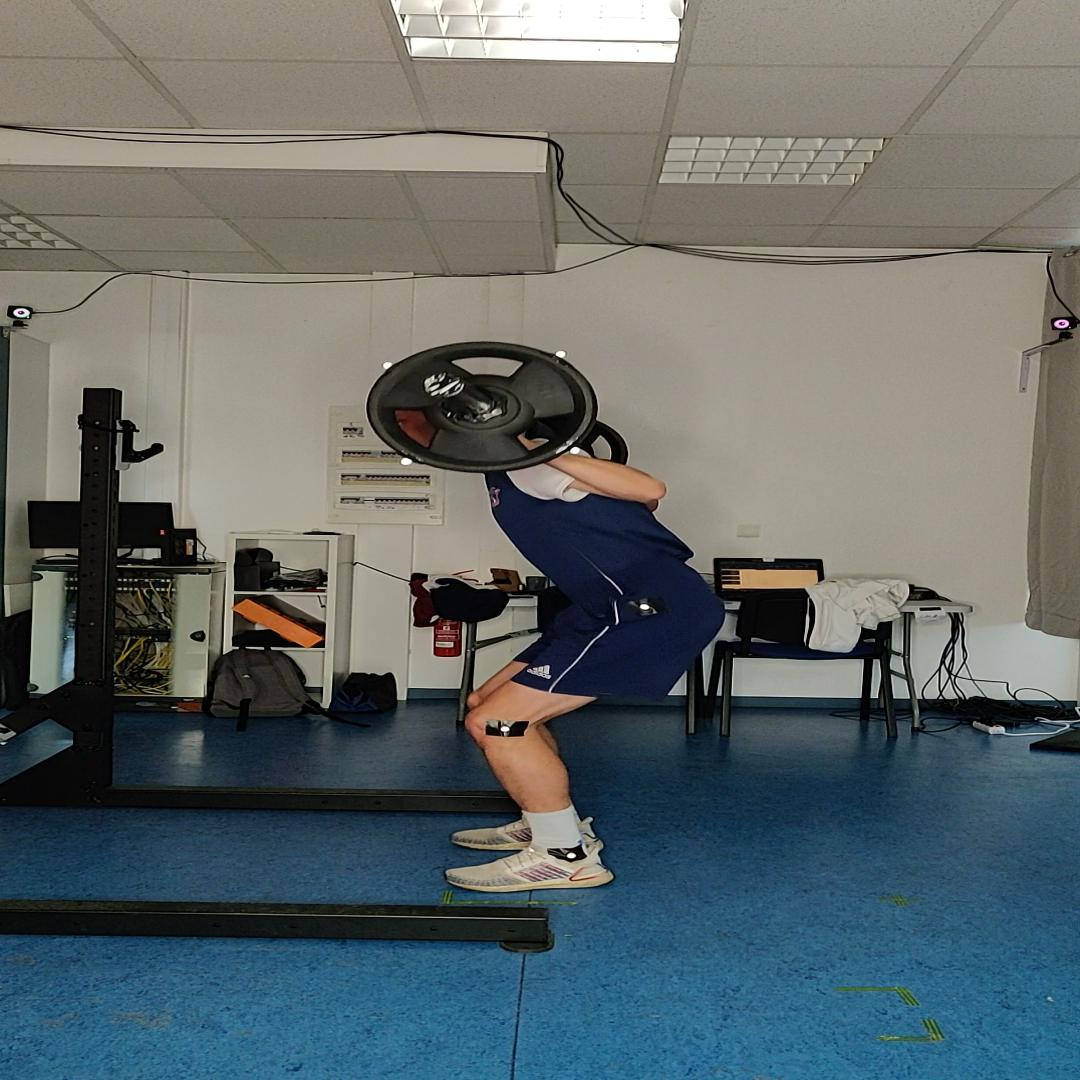Bar: (423, 372, 465, 398)
Barbell: (366, 341, 598, 473)
